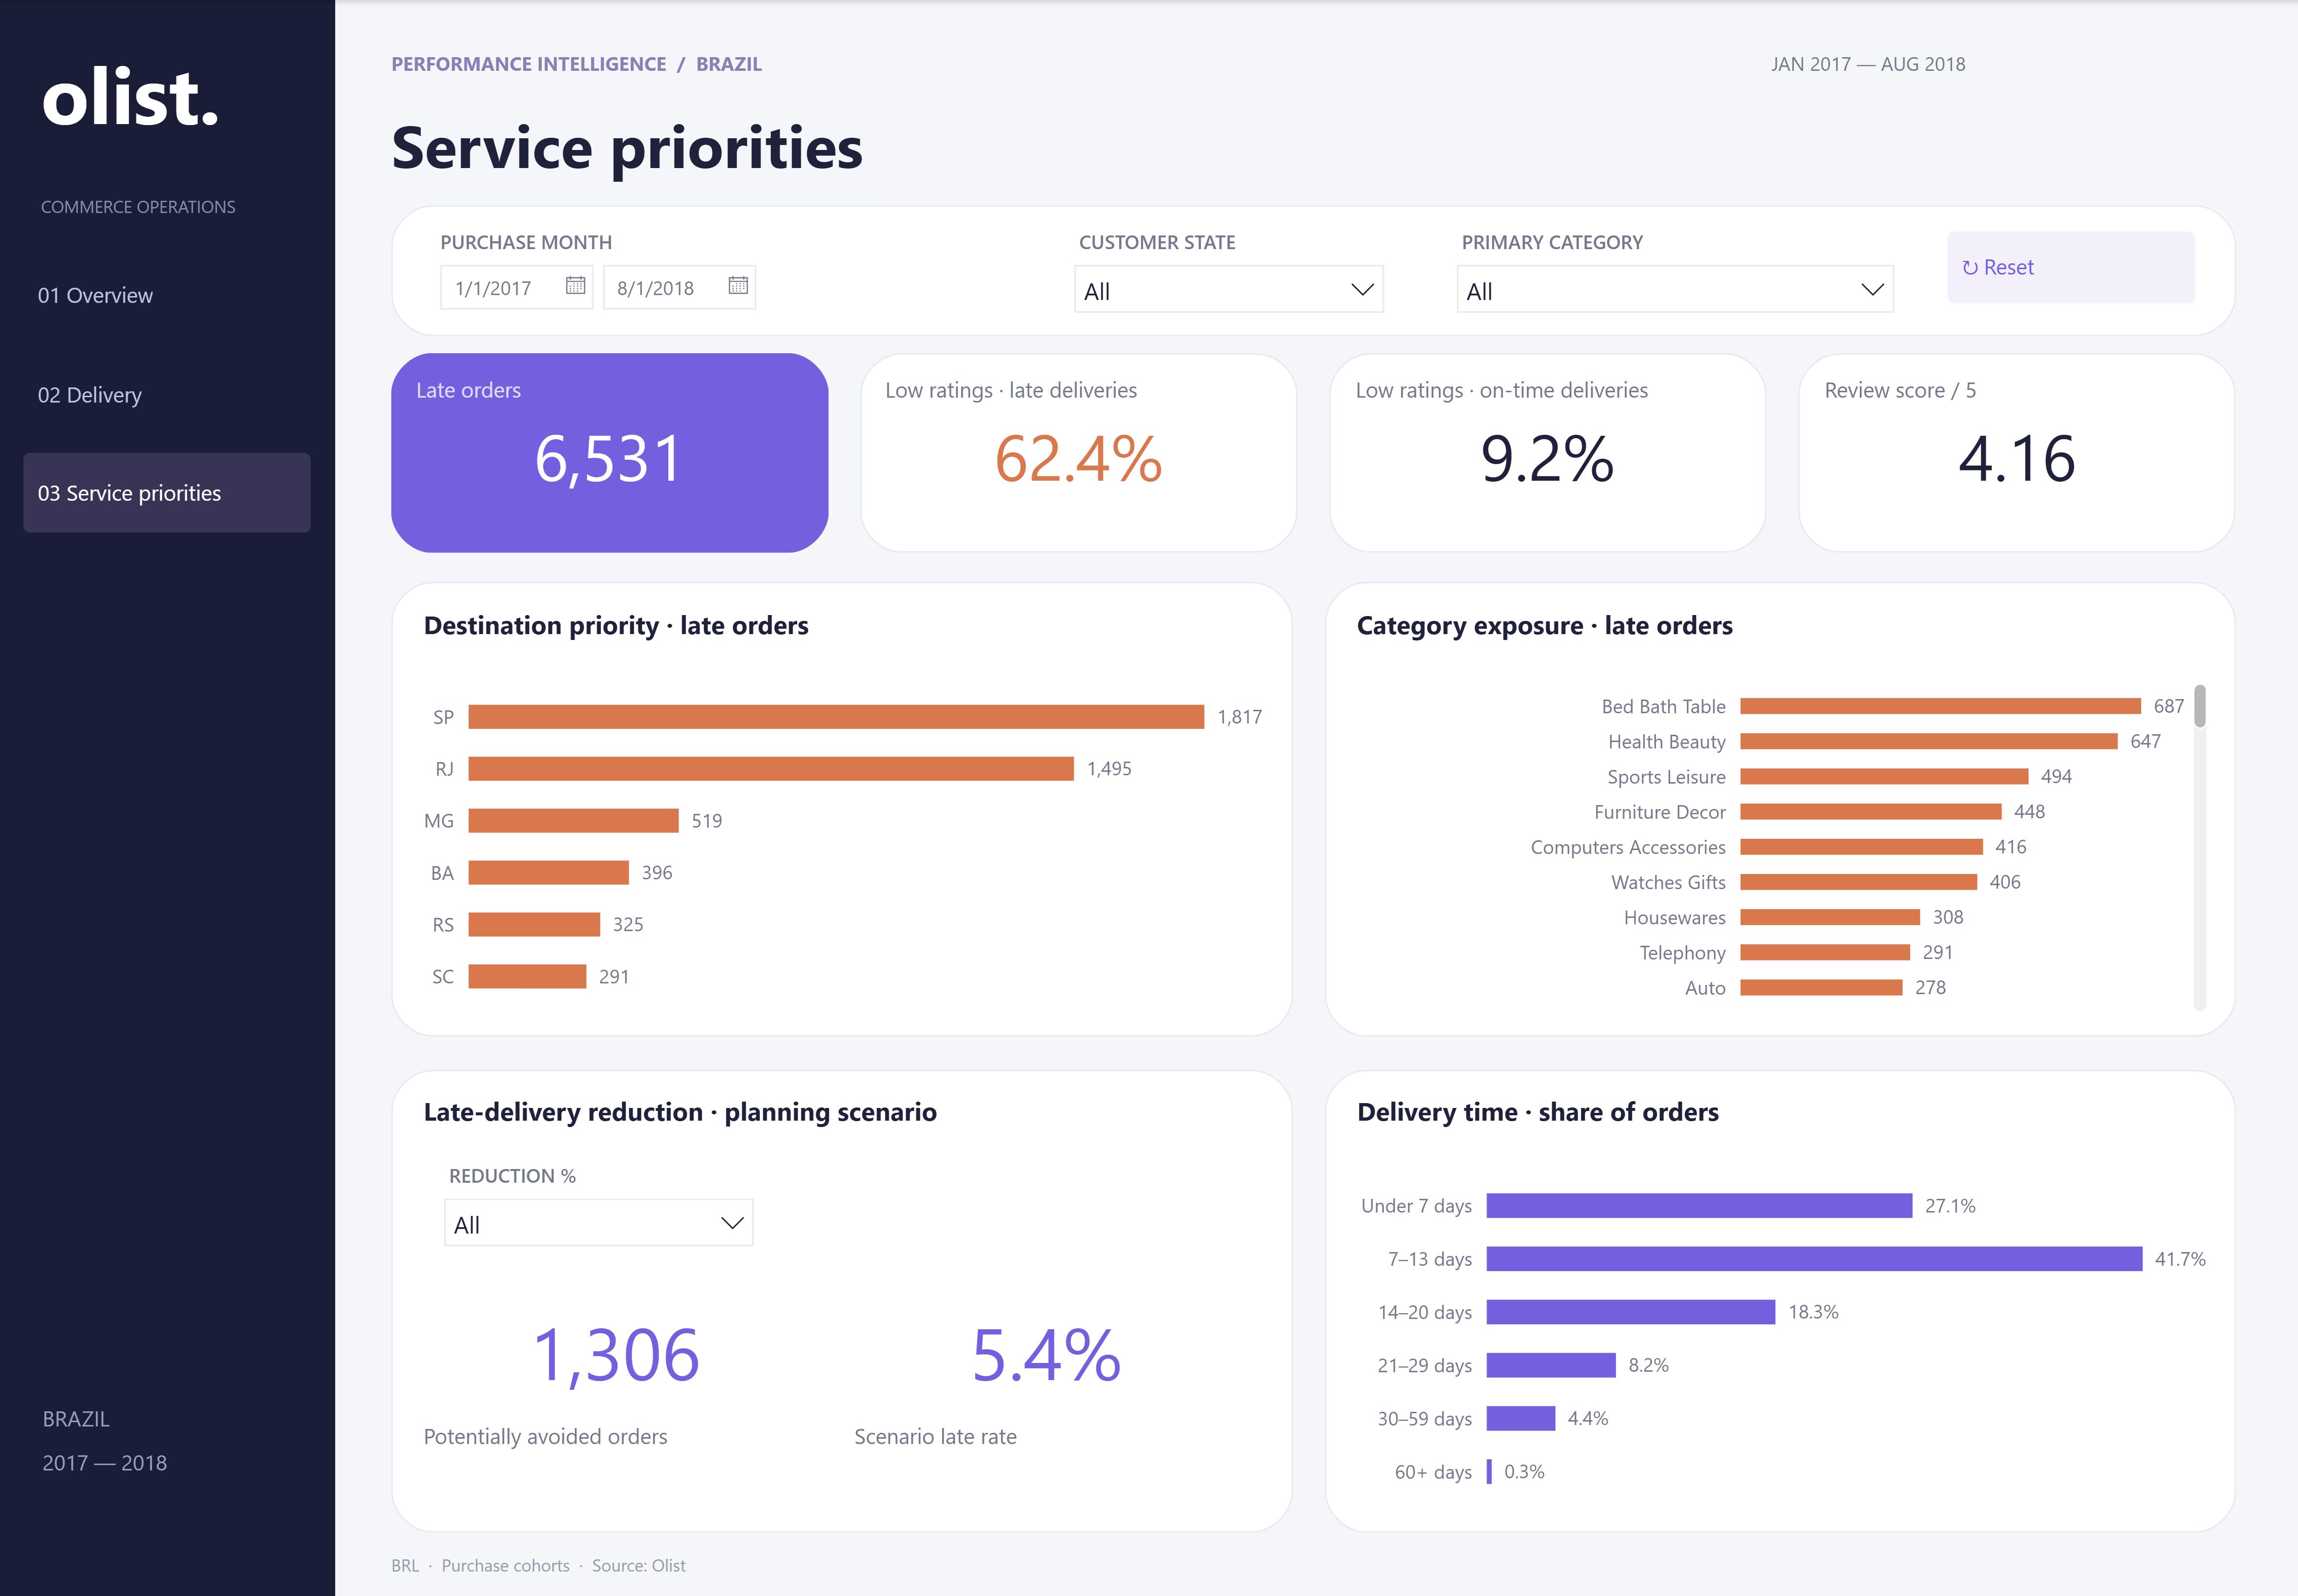

Layout of this report page (visuals, bound fields, positions):
{"tool":"powerbi","page":{"name":"Service priorities","canvas":[1440,1000],"ordinal":2},"visuals":[{"type":"shape","box":[0,0,210,1000],"z":1},{"type":"shape","box":[245,129,1156,82],"z":15},{"type":"shape","box":[245,221,274,125],"z":23},{"type":"shape","box":[539,221,274,125],"z":27},{"type":"shape","box":[833,221,274,125],"z":31},{"type":"shape","box":[1127,221,274,125],"z":35},{"type":"shape","box":[245,365,565,285],"z":39},{"type":"shape","box":[830,365,571,285],"z":42},{"type":"shape","box":[245,670,565,290],"z":45},{"type":"shape","box":[830,670,571,290],"z":52},{"type":"textbox","box":[26,25,170,70],"z":1002},{"type":"textbox","box":[26,119,170,24],"z":1003},{"type":"actionButton","box":[15,160,180,50],"z":1004},{"type":"actionButton","box":[15,222,180,50],"z":1005},{"type":"actionButton","box":[15,284,180,50],"z":1006},{"type":"textbox","box":[245,30,850,24],"z":1011},{"type":"textbox","box":[1110,30,305,24],"z":1012},{"type":"textbox","box":[245,65,1150,50],"z":1013},{"type":"slicer","fields":{"Values":["Months.MonthStart"]},"box":[260,135,380,70],"z":1016},{"type":"slicer","fields":{"Values":["States.State"]},"box":[660,135,220,76],"z":1017},{"type":"slicer","fields":{"Values":["Categories.Category"]},"box":[900,135,300,76],"z":1018},{"type":"actionButton","box":[1220,145,155,45],"z":1019},{"type":"textbox","box":[245,971,1160,22],"z":1020},{"type":"textbox","box":[27,880,160,25],"z":1021},{"type":"textbox","box":[27,907,160,25],"z":1022},{"type":"textbox","box":[261,235,244,24],"z":1024},{"type":"card","fields":{"Values":["Orders.Late Orders"]},"box":[259,261,246,49],"z":1025},{"type":"textbox","box":[555,235,244,24],"z":1028},{"type":"card","fields":{"Values":["Orders.Low Rating Late"]},"box":[553,261,246,49],"z":1029},{"type":"textbox","box":[849,235,244,24],"z":1032},{"type":"card","fields":{"Values":["Orders.Low Rating On Time"]},"box":[847,261,246,49],"z":1033},{"type":"textbox","box":[1143,235,244,24],"z":1036},{"type":"card","fields":{"Values":["Orders.Average Review"]},"box":[1141,261,246,49],"z":1037},{"type":"textbox","box":[265,380,525,28],"z":1040},{"type":"barChart","fields":{"Category":["States.State"],"Y":["Orders.Top State Late Orders"]},"box":[263,421,529,213],"z":1041},{"type":"textbox","box":[850,380,531,28],"z":1043},{"type":"barChart","fields":{"Category":["Categories.Category"],"Y":["Orders.Late Orders"]},"box":[848,421,535,213],"z":1044},{"type":"textbox","box":[265,685,525,28],"z":1046},{"type":"slicer","fields":{"Values":["Reduction.Value"]},"box":[265,720,220,76],"z":1047},{"type":"card","fields":{"Values":["Orders.Avoided Late Orders"]},"box":[265,814,240,65],"z":1048},{"type":"textbox","box":[265,891,245,25],"z":1049},{"type":"card","fields":{"Values":["Orders.Scenario Late Rate"]},"box":[535,814,240,65],"z":1050},{"type":"textbox","box":[535,891,245,25],"z":1051},{"type":"textbox","box":[850,685,531,28],"z":1053},{"type":"barChart","fields":{"Category":["Orders.DeliveryBand"],"Y":["Orders.Delivery Band Share"]},"box":[848,726,535,218],"z":1054}]}

Visuals, with their boxes on the page's 1440x1000 design canvas (x1, y1, x2, y2). These are canvas units, not pixel positions in the 2298x1596 screenshot, which may show the page scaled, cropped or inside an application window:
shape: [0, 0, 210, 1000]
shape: [245, 129, 1401, 211]
shape: [245, 221, 519, 346]
shape: [539, 221, 813, 346]
shape: [833, 221, 1107, 346]
shape: [1127, 221, 1401, 346]
shape: [245, 365, 810, 650]
shape: [830, 365, 1401, 650]
shape: [245, 670, 810, 960]
shape: [830, 670, 1401, 960]
textbox: [26, 25, 196, 95]
textbox: [26, 119, 196, 143]
actionButton: [15, 160, 195, 210]
actionButton: [15, 222, 195, 272]
actionButton: [15, 284, 195, 334]
textbox: [245, 30, 1095, 54]
textbox: [1110, 30, 1415, 54]
textbox: [245, 65, 1395, 115]
slicer - Months.MonthStart: [260, 135, 640, 205]
slicer - States.State: [660, 135, 880, 211]
slicer - Categories.Category: [900, 135, 1200, 211]
actionButton: [1220, 145, 1375, 190]
textbox: [245, 971, 1405, 993]
textbox: [27, 880, 187, 905]
textbox: [27, 907, 187, 932]
textbox: [261, 235, 505, 259]
card - Orders.Late Orders: [259, 261, 505, 310]
textbox: [555, 235, 799, 259]
card - Orders.Low Rating Late: [553, 261, 799, 310]
textbox: [849, 235, 1093, 259]
card - Orders.Low Rating On Time: [847, 261, 1093, 310]
textbox: [1143, 235, 1387, 259]
card - Orders.Average Review: [1141, 261, 1387, 310]
textbox: [265, 380, 790, 408]
barChart - States.State x Orders.Top State Late Orders: [263, 421, 792, 634]
textbox: [850, 380, 1381, 408]
barChart - Categories.Category x Orders.Late Orders: [848, 421, 1383, 634]
textbox: [265, 685, 790, 713]
slicer - Reduction.Value: [265, 720, 485, 796]
card - Orders.Avoided Late Orders: [265, 814, 505, 879]
textbox: [265, 891, 510, 916]
card - Orders.Scenario Late Rate: [535, 814, 775, 879]
textbox: [535, 891, 780, 916]
textbox: [850, 685, 1381, 713]
barChart - Orders.DeliveryBand x Orders.Delivery Band Share: [848, 726, 1383, 944]
